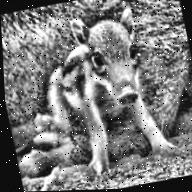boar: (26, 0, 181, 177)
